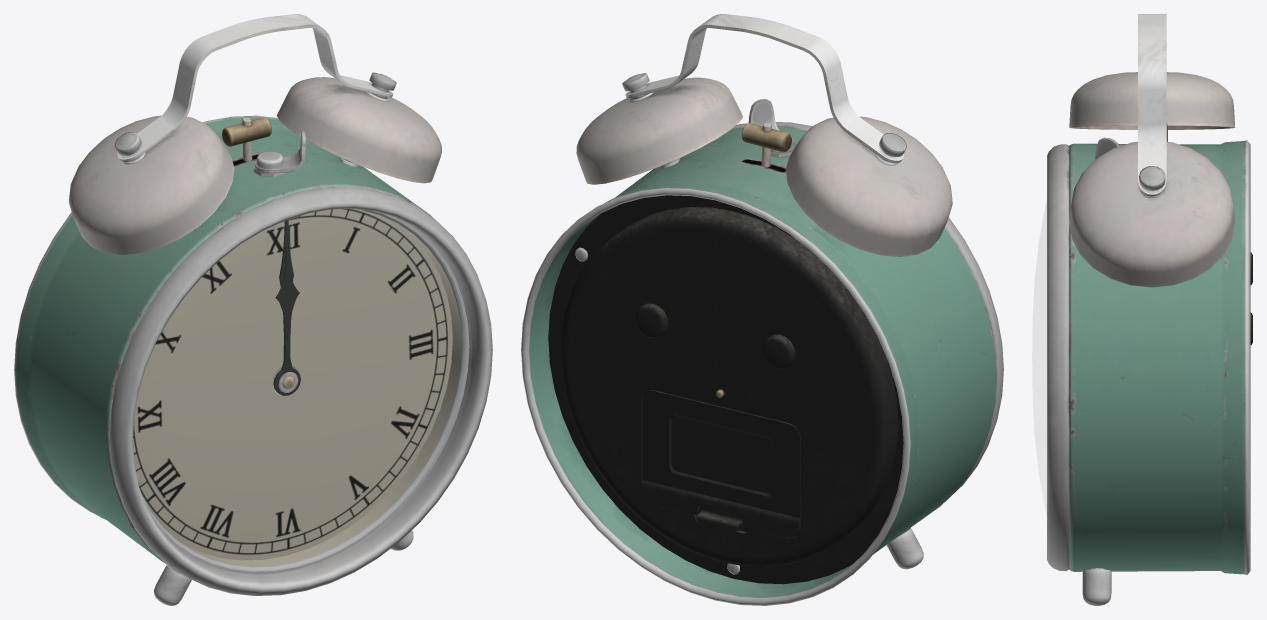
Rendered from clock.glb.
3 views of the same model, side by side, from view 1: azimuth 30°, elevation 25°; view 2: azimuth 150°, elevation 25°; view 3: azimuth 270°, elevation 25° (orthographic). The views are drawn at different scales.
Visible parts, largest first — view 1: alarm_clock_01, hand-hour; view 2: alarm_clock_01; view 3: alarm_clock_01.
Part boxes in pixels (bbox=[...]): alarm_clock_01: bbox=[14, 14, 492, 605]; hand-hour: bbox=[274, 249, 300, 395]; alarm_clock_01: bbox=[521, 14, 1003, 605]; alarm_clock_01: bbox=[1032, 14, 1252, 605].
Size of the model in its own units: 0.1053 by 0.1393 by 0.0534.
2 materials, 1 textured.
